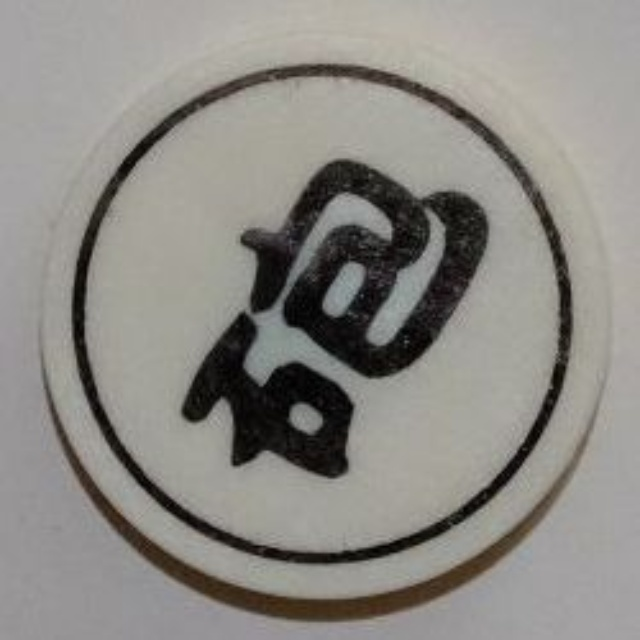black_phao: (35, 32, 614, 609)
